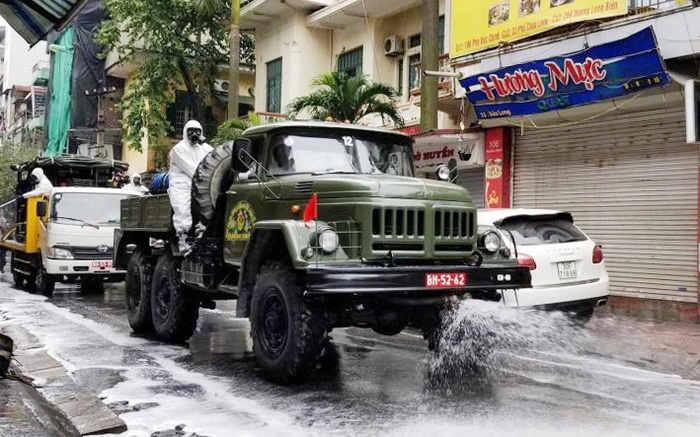plate: (421, 267, 467, 291)
